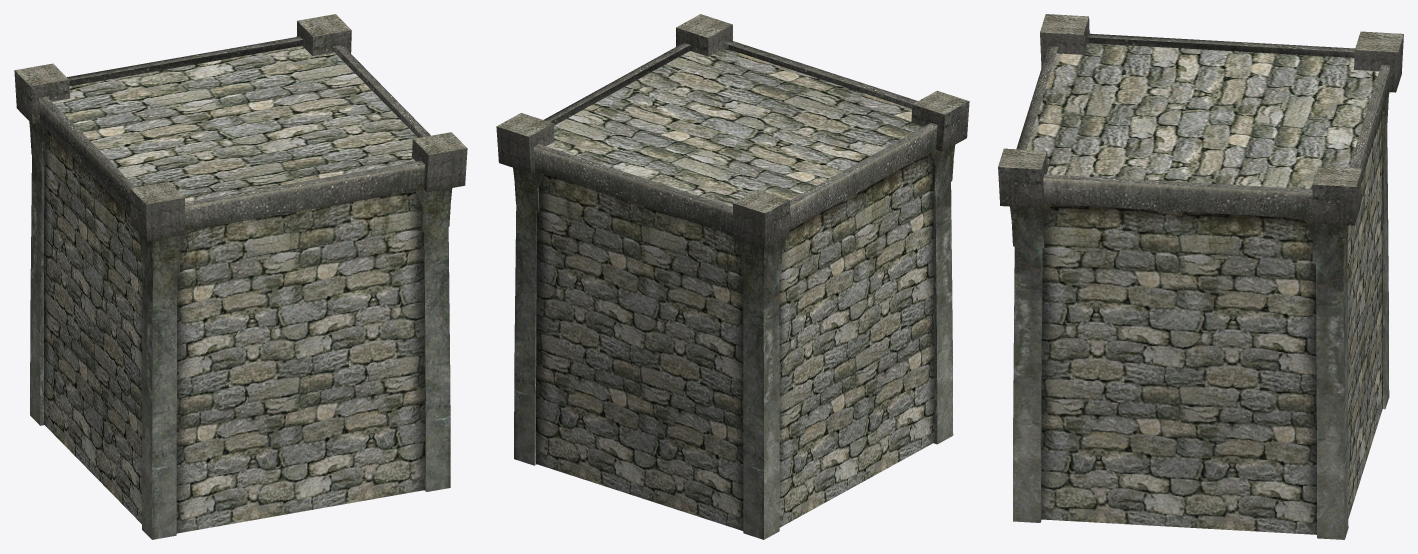
The model's file is 1st_pillar_002.fbx.
The picture shows the model from 3 angles, left to right: view 1: azimuth 30°, elevation 25°; view 2: azimuth 150°, elevation 25°; view 3: azimuth 270°, elevation 25°; orthographic projection. The views are drawn at different scales.
Parts seen in each view (by area): view 1: Object23; view 2: Object23; view 3: Object23.
Boxes of the visible parts, bbox=[...] form: Object23: bbox=[14, 14, 467, 539]; Object23: bbox=[496, 14, 969, 539]; Object23: bbox=[998, 14, 1403, 539].
Bounding box in the file's own units: 3.5 × 3.39 × 3.47.
